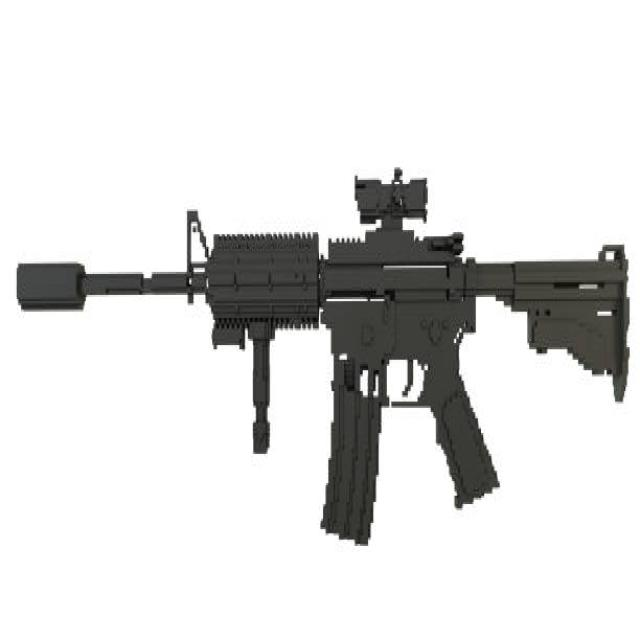rifle: (13, 157, 639, 559)
